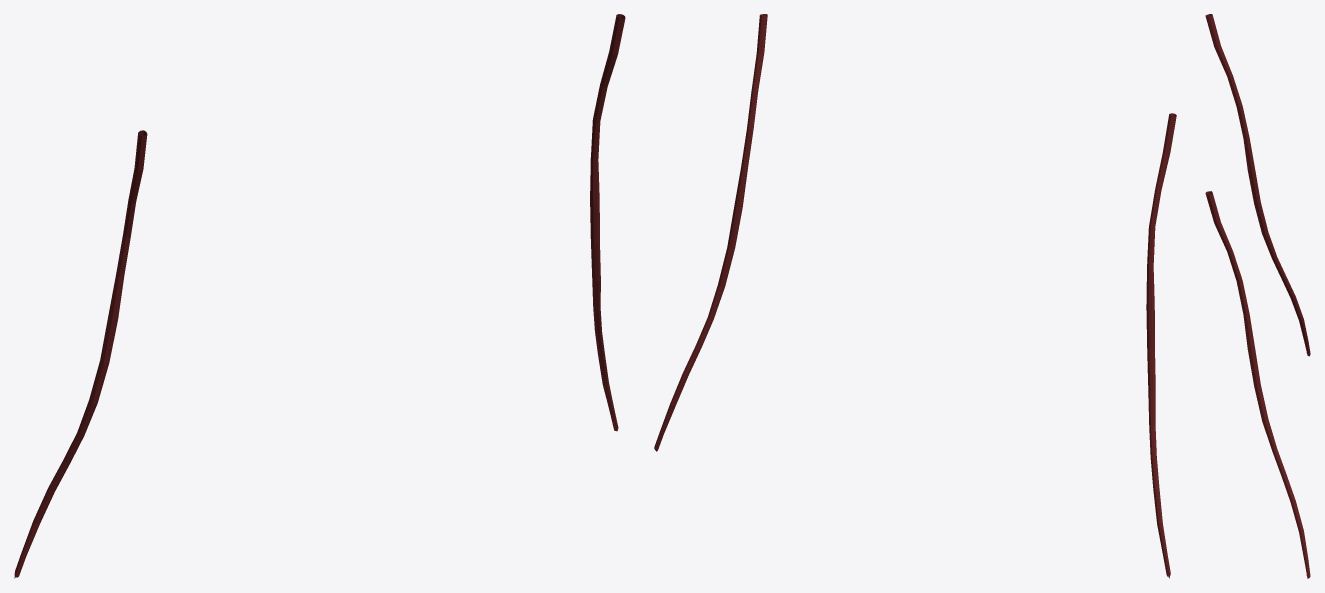
The model's file is Artéria Tibial Anterior.FBX.
The picture shows the model from 3 angles, left to right: view 1: azimuth 30°, elevation 25°; view 2: azimuth 150°, elevation 25°; view 3: azimuth 270°, elevation 25°; orthographic projection. The views are drawn at different scales.
Parts seen in each view (by area): view 1: CS_Arterie; view 2: CS_Arterie; view 3: CS_Arterie.
Boxes of the visible parts, x1,y1,x2,y2 form: CS_Arterie: (14,14,625,578); CS_Arterie: (654,14,1176,578); CS_Arterie: (1205,14,1310,578).
Size of the model in its own units: 1174 by 892 by 233.
